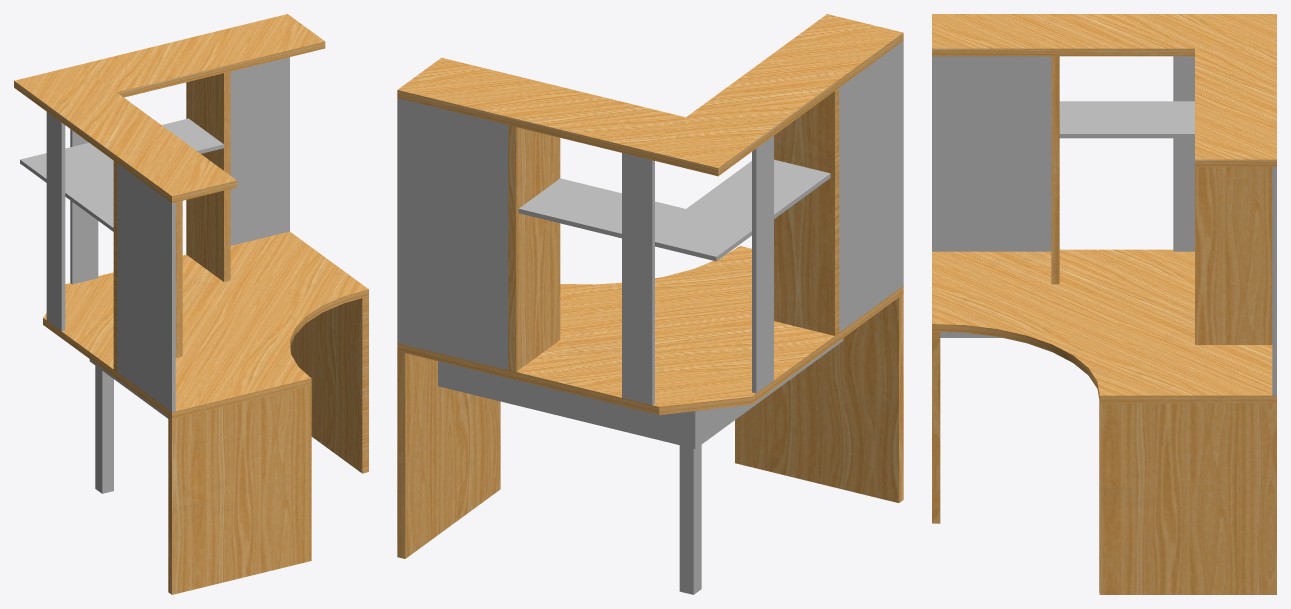
Rendered from desk 3.fbx.
The picture shows the model from 3 angles, left to right: view 1: azimuth 30°, elevation 25°; view 2: azimuth 150°, elevation 25°; view 3: azimuth 270°, elevation 25°; orthographic projection. The views are drawn at different scales.
Parts seen in each view (by area): view 1: deskTop, L_Leg, L_Backing, L_Top, R_Backing, R_Leg, R_Top, R_ShelfSupport, L_Support, R_Shelf, L_ShelfSupport, backLeg (+2 smaller); view 2: R_Backing, deskTop, L_Leg, L_Top, L_Backing, R_Leg, R_Top, L_ShelfSupport, R_ShelfSupport, R_Support, R_Shelf, R_Brace (+4 smaller); view 3: deskTop, R_Leg, L_Backing, L_Top, R_ShelfSupport, R_Top, L_Shelf, L_Support, L_ShelfSupport, L_Leg, R_Backing.
Part boxes in pixels (x1,y1,x2,y2): deskTop: [43, 231, 368, 419]; L_Leg: [168, 385, 311, 594]; L_Backing: [117, 163, 175, 412]; L_Top: [14, 65, 237, 203]; R_Backing: [230, 57, 289, 245]; R_Leg: [290, 296, 368, 473]; R_Top: [79, 14, 325, 97]; R_ShelfSupport: [186, 71, 230, 281]; L_Support: [46, 112, 65, 331]; R_Shelf: [20, 118, 223, 182]; L_ShelfSupport: [113, 161, 182, 371]; backLeg: [95, 366, 113, 493]; R_Backing: [397, 98, 508, 369]; deskTop: [397, 246, 903, 414]; L_Leg: [735, 294, 903, 502]; L_Top: [642, 14, 903, 176]; L_Backing: [839, 41, 903, 332]; R_Leg: [397, 351, 500, 558]; R_Top: [397, 57, 685, 157]; L_ShelfSupport: [774, 88, 839, 335]; R_ShelfSupport: [508, 125, 560, 371]; R_Support: [622, 153, 654, 405]; R_Shelf: [518, 178, 751, 261]; R_Brace: [438, 361, 690, 447]; deskTop: [932, 249, 1276, 403]; R_Leg: [1099, 401, 1276, 594]; L_Backing: [932, 56, 1051, 251]; L_Top: [932, 14, 1276, 56]; R_ShelfSupport: [1195, 167, 1272, 344]; R_Top: [1195, 48, 1276, 167]; L_Shelf: [1059, 101, 1194, 138]; L_Support: [1173, 56, 1194, 251]; L_ShelfSupport: [1051, 56, 1059, 284]; L_Leg: [932, 331, 940, 523]; R_Backing: [1272, 167, 1276, 395].
Size of the model in its own units: 1.17 by 1.64 by 1.17.
